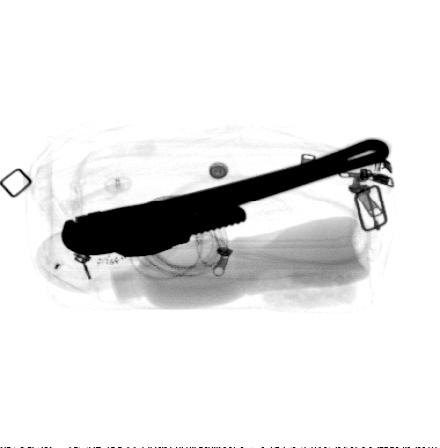Wrench: (60, 136, 392, 259)
